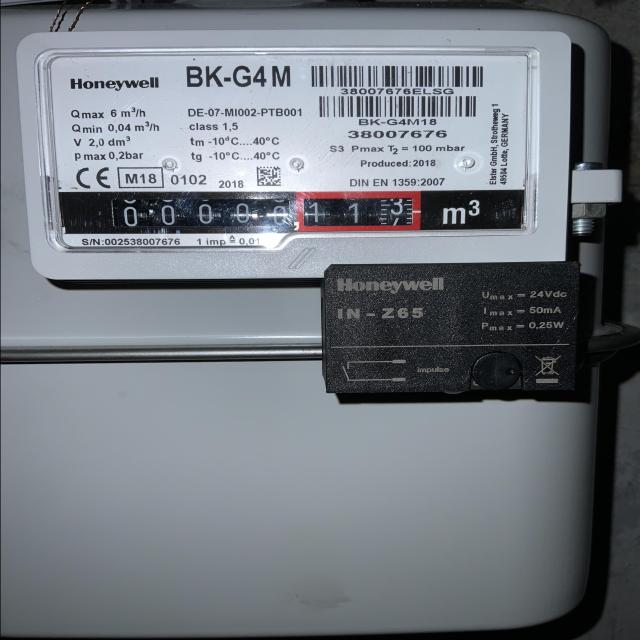gaz_meter: (43, 49, 536, 240)
indication: (110, 193, 421, 228)
